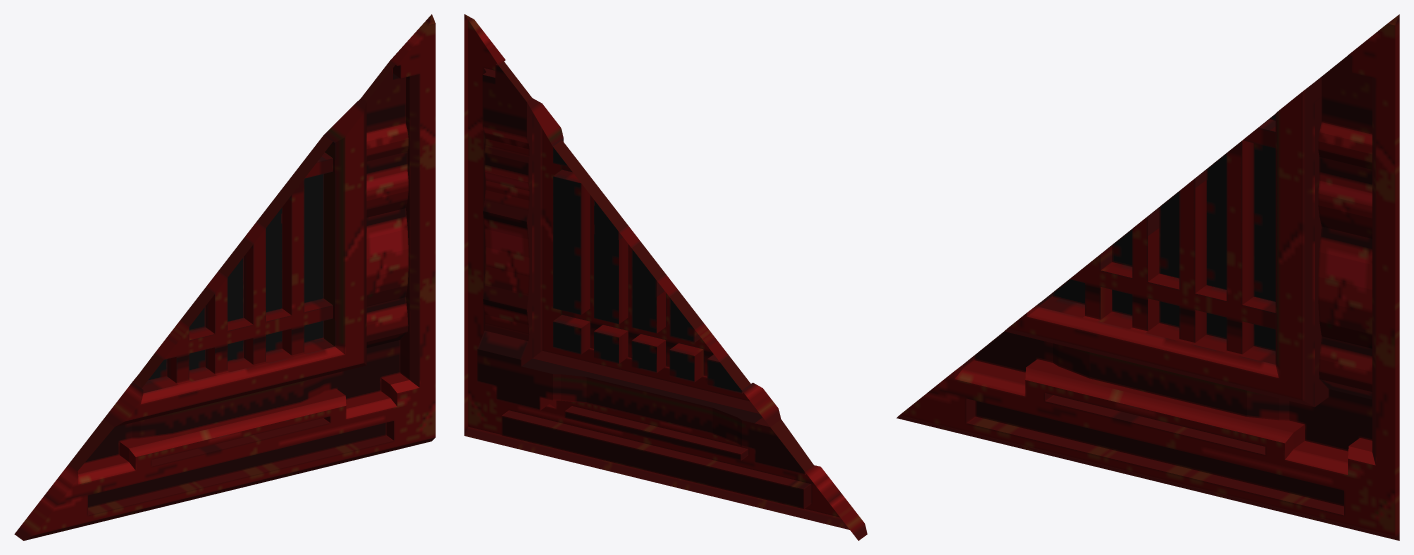
The model's file is sci2_1_slice45rh.fbx.
The picture shows the model from 3 angles, left to right: view 1: azimuth 30°, elevation 25°; view 2: azimuth 150°, elevation 25°; view 3: azimuth 330°, elevation 25°; orthographic projection. The views are drawn at different scales.
Visible parts, largest first — view 1: sci2_1_mesh; view 2: sci2_1_mesh; view 3: sci2_1_mesh.
Boxes of the visible parts, box(x1,y1,x2,y2) form: sci2_1_mesh: box(14, 14, 435, 540); sci2_1_mesh: box(464, 14, 867, 540); sci2_1_mesh: box(896, 14, 1399, 540).
Bounding box in the file's own units: 256 × 256 × 16.
